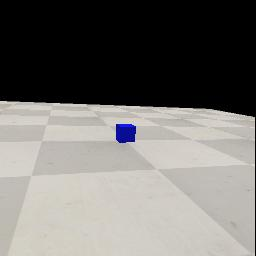box: (116, 124, 136, 143)
